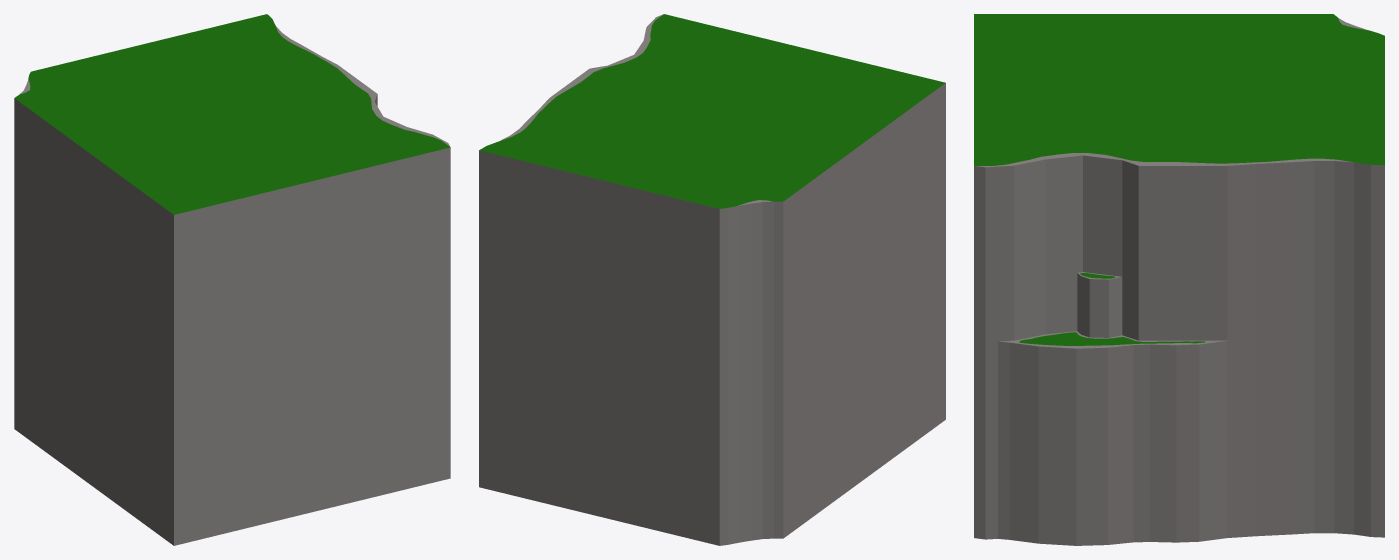
The model's file is PathToWedge.fbx.
The picture shows the model from 3 angles, left to right: view 1: azimuth 30°, elevation 25°; view 2: azimuth 150°, elevation 25°; view 3: azimuth 270°, elevation 25°; orthographic projection. The views are drawn at different scales.
Visible parts, largest first — view 1: Plane.025; view 2: Plane.025; view 3: Plane.025.
Part boxes in pixels (x1,y1,x2,y2): Plane.025: (14, 14, 450, 545); Plane.025: (479, 14, 945, 545); Plane.025: (974, 14, 1384, 545).
Size of the model in its own units: 92.04 by 100 by 100.
